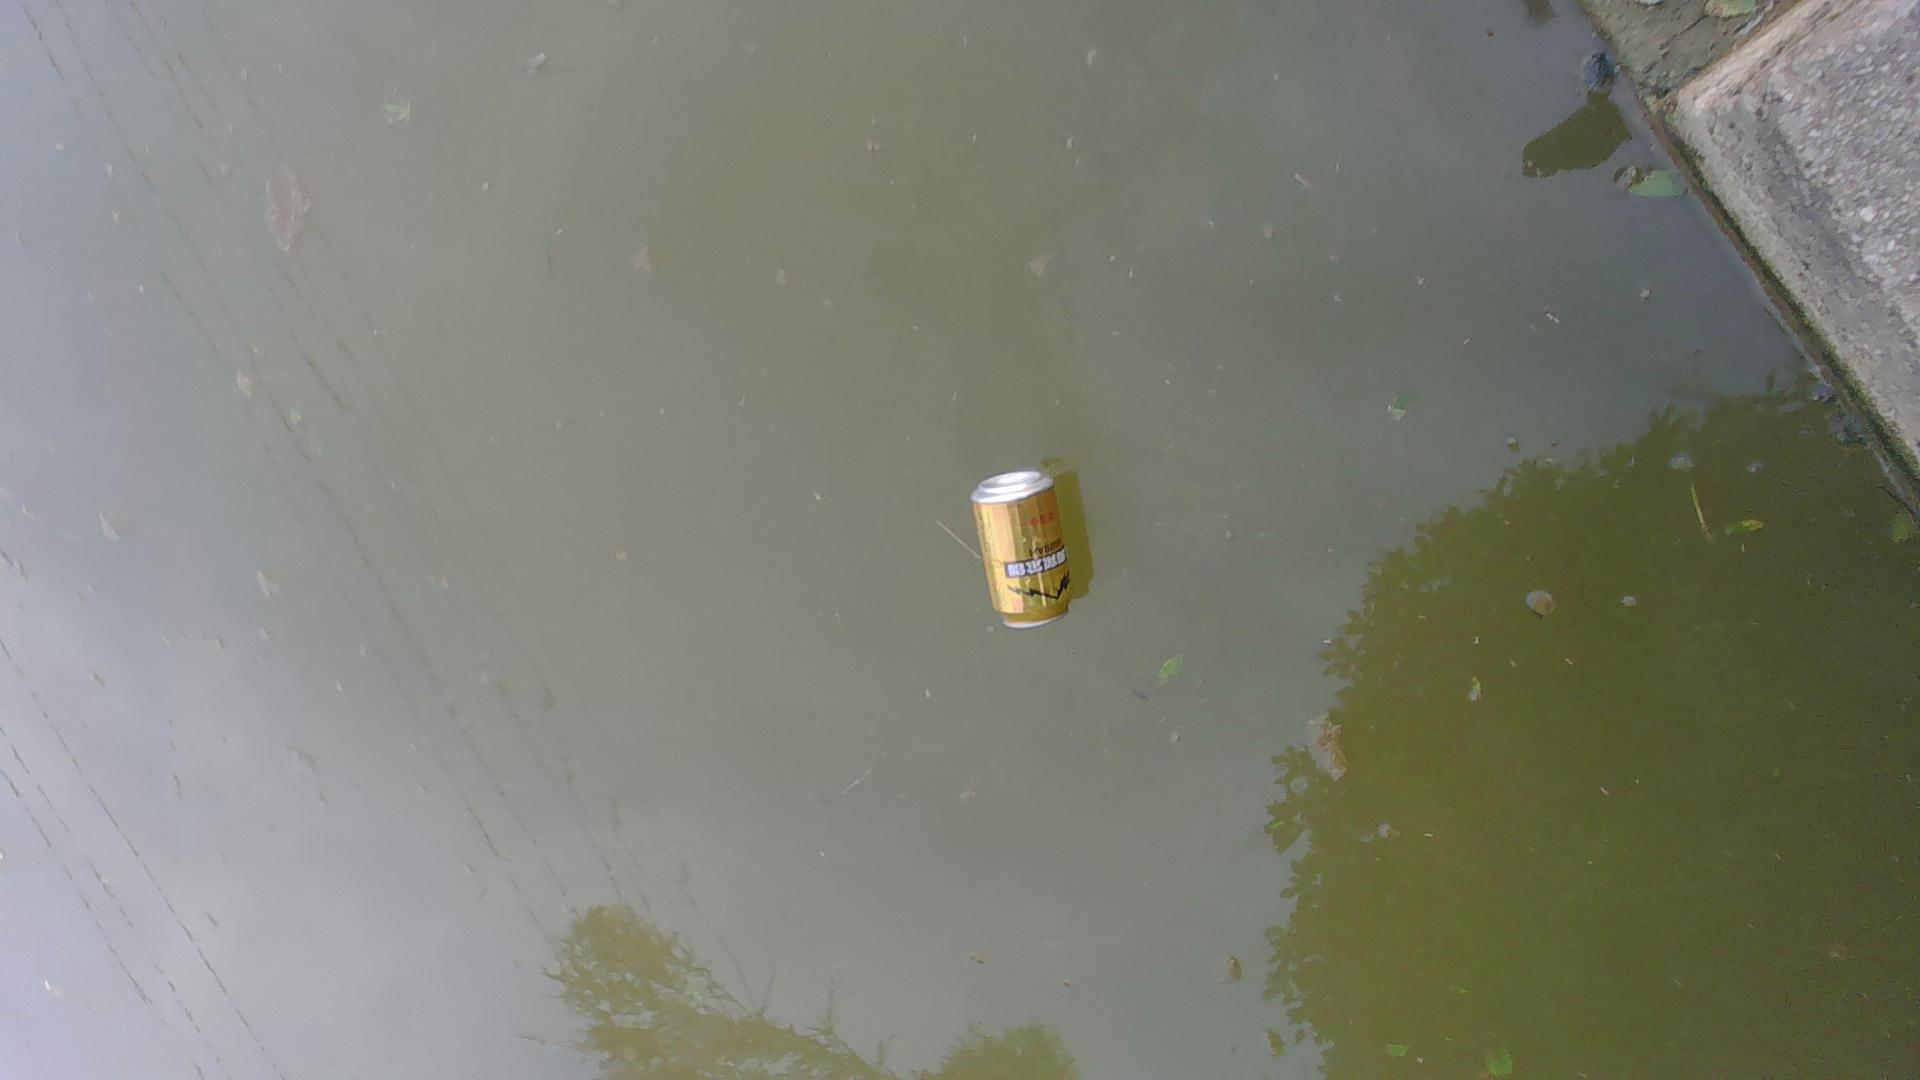Metal: (969, 460, 1081, 638)
